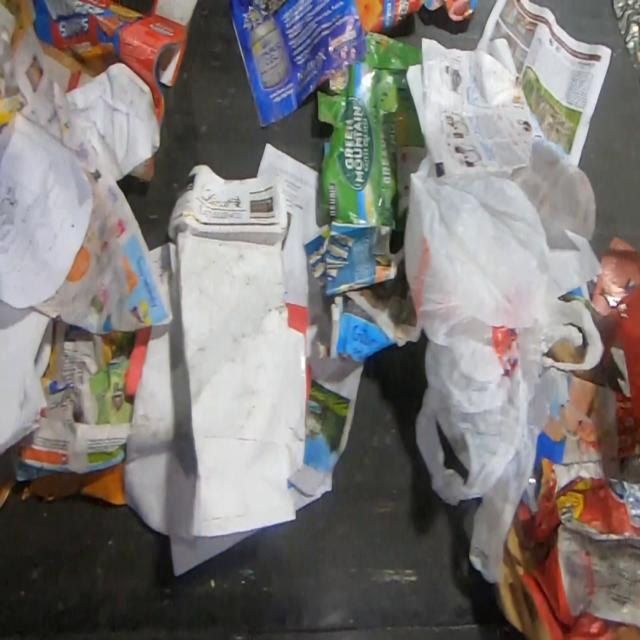cardboard: (316, 29, 427, 233), (30, 0, 200, 129), (494, 519, 549, 640), (126, 151, 155, 183)
soft_plastic: (402, 154, 604, 585), (516, 457, 640, 640)
